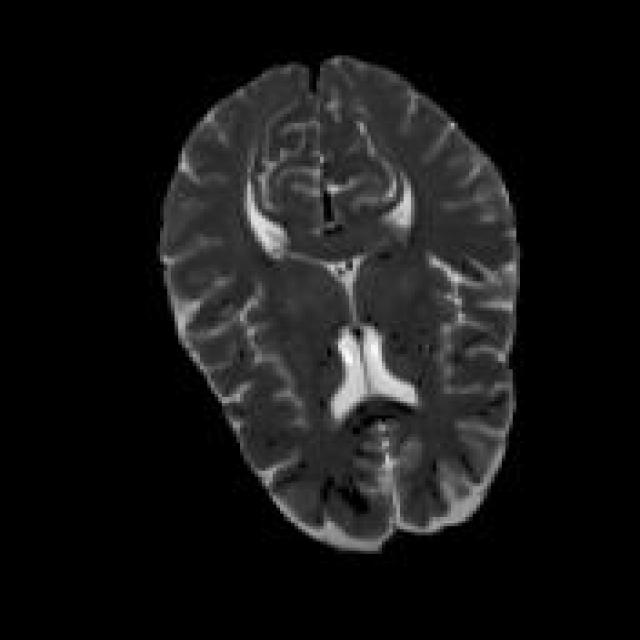parkinson: (153, 52, 520, 554)
